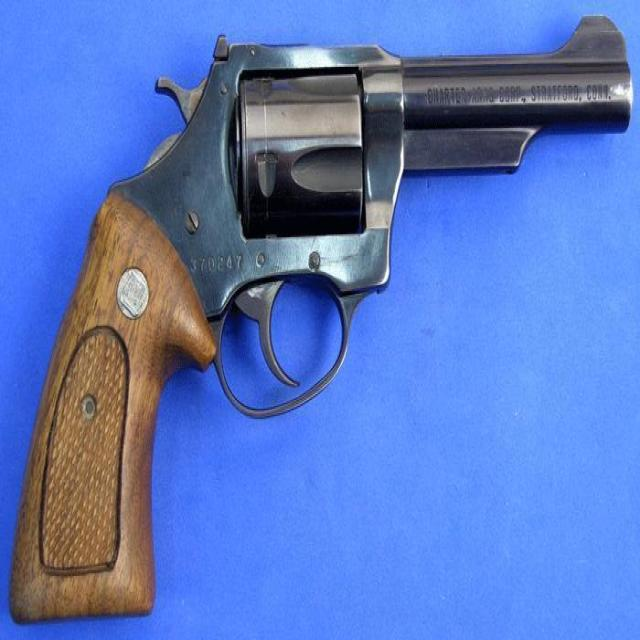Gun: (7, 13, 640, 640)
